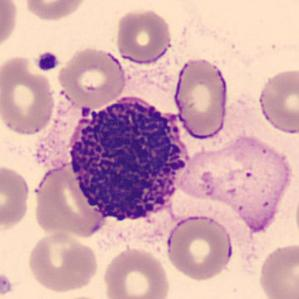Basophil: (61, 90, 194, 234)
Platelets: (34, 50, 61, 72), (0, 272, 13, 298)
RBC: (187, 131, 296, 236), (31, 162, 109, 240), (164, 212, 235, 282), (172, 55, 229, 140), (0, 53, 57, 137), (56, 44, 128, 109), (26, 231, 100, 294), (100, 245, 172, 299), (114, 6, 173, 64), (256, 66, 298, 136), (256, 240, 298, 299), (0, 162, 32, 232), (21, 0, 88, 22), (0, 0, 19, 54), (293, 187, 299, 244), (57, 294, 110, 299)
